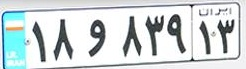character: (47, 15, 80, 64), (81, 16, 113, 61), (116, 11, 145, 59), (142, 8, 167, 59), (165, 9, 189, 58), (29, 18, 52, 65), (213, 15, 238, 56), (194, 18, 215, 58)
